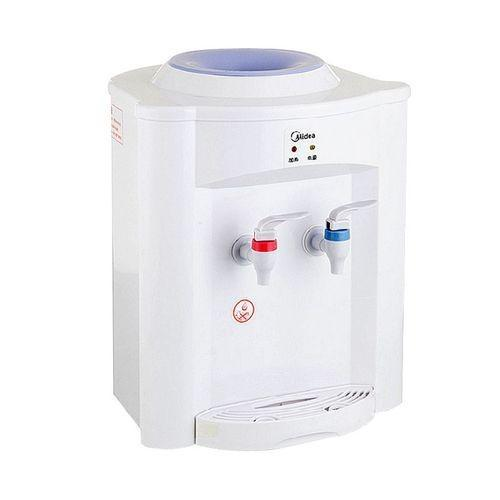Dispenser: (107, 46, 410, 450)
